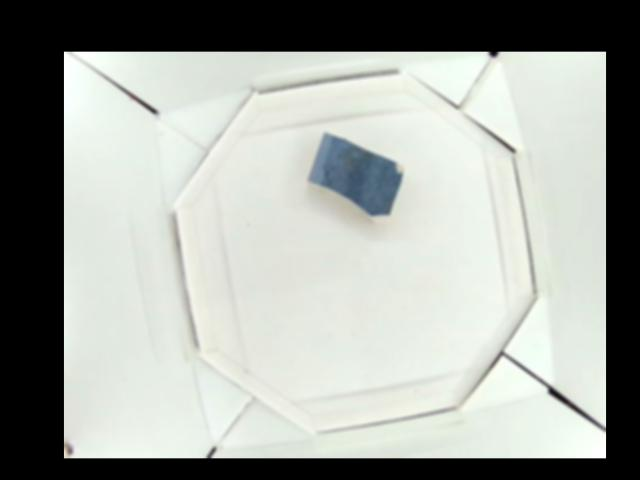China: (307, 130, 405, 218)
